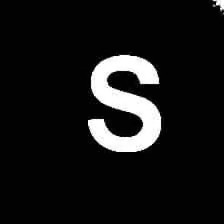LTR_S: (84, 52, 172, 156)
